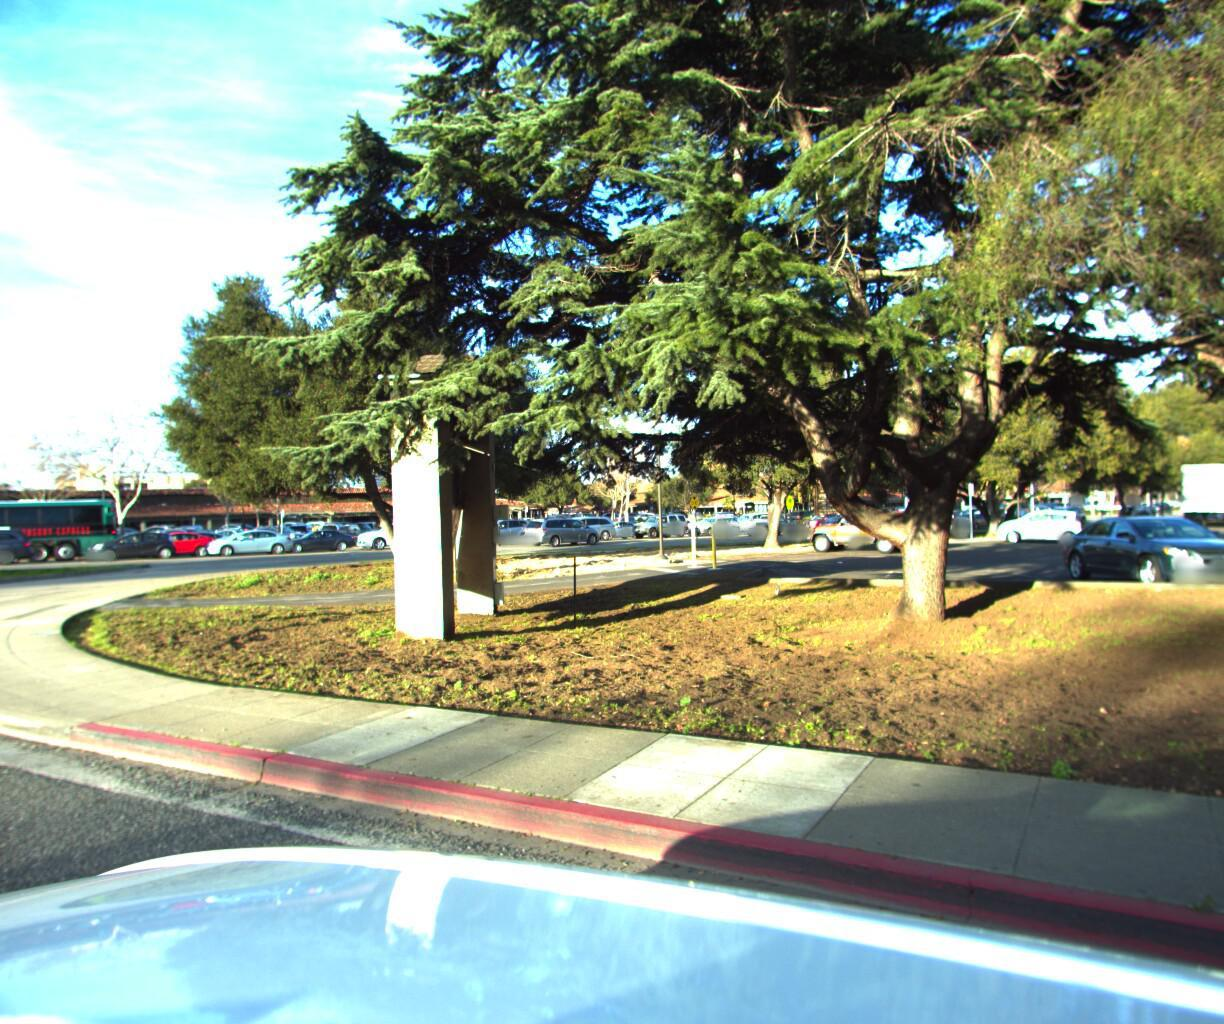bus: (0, 489, 125, 574)
car: (124, 523, 224, 557), (199, 520, 296, 553), (87, 523, 177, 557), (351, 513, 436, 546), (521, 506, 600, 542), (271, 519, 358, 550), (540, 508, 622, 539), (784, 500, 862, 532), (460, 510, 539, 540), (624, 503, 695, 536), (583, 513, 654, 541), (732, 501, 803, 530), (0, 520, 41, 566), (720, 502, 786, 529), (950, 499, 1004, 524), (682, 506, 739, 530)
